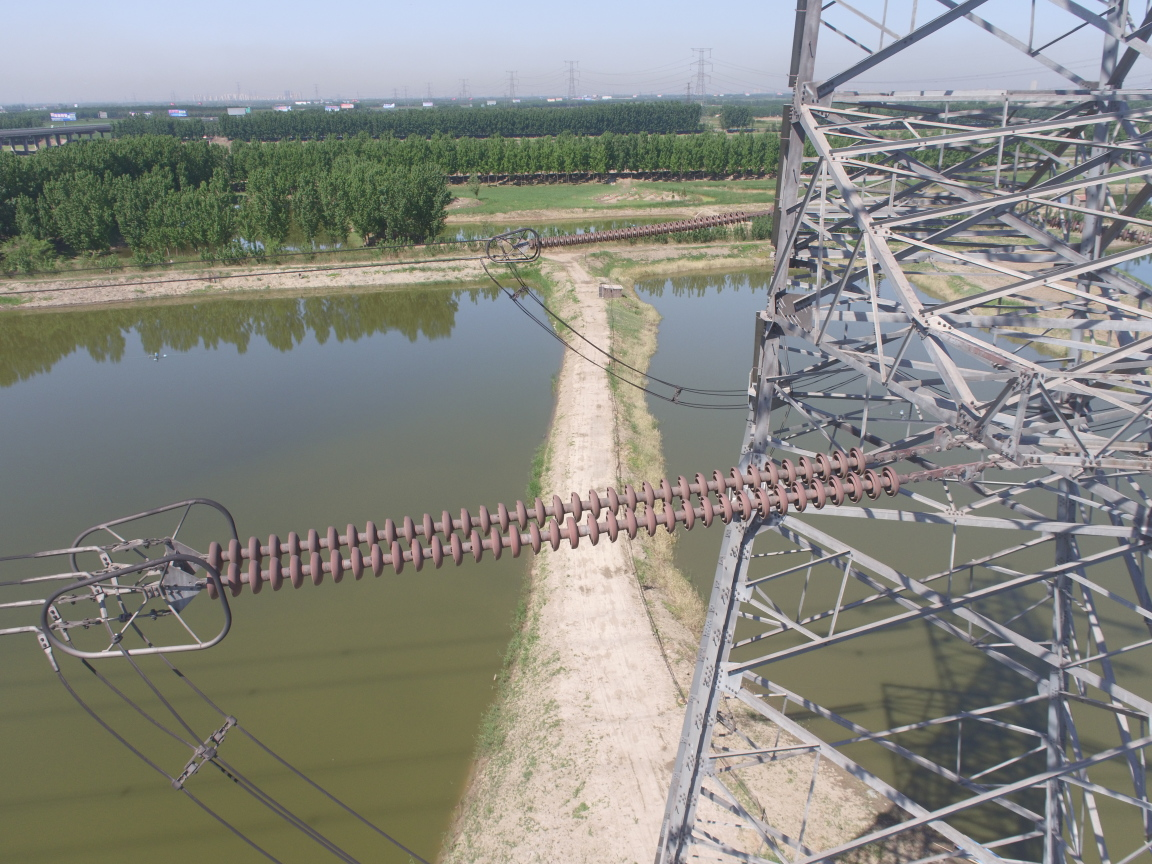insulator: (182, 442, 928, 601), (531, 206, 770, 250)
